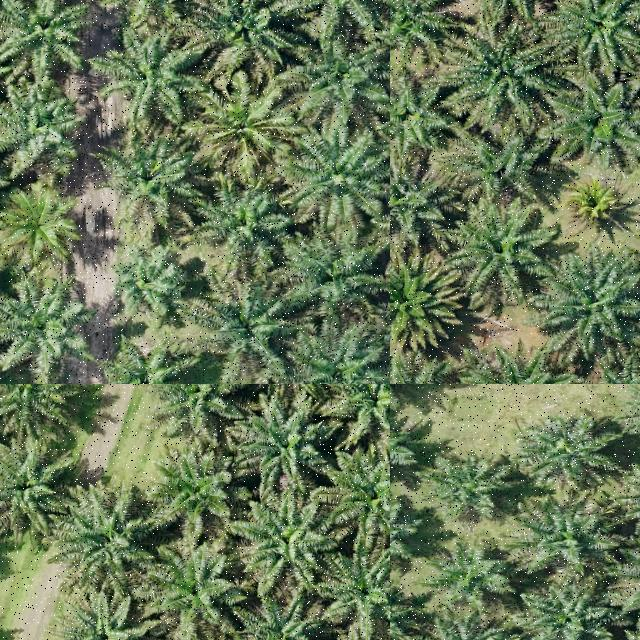Ganoderma: (6, 194, 74, 258), (208, 99, 273, 165), (574, 184, 623, 224)
